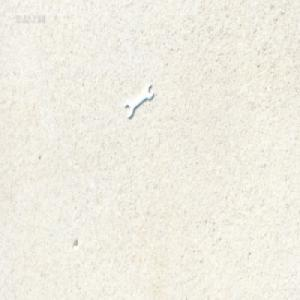Wrench: (124, 83, 155, 118)
